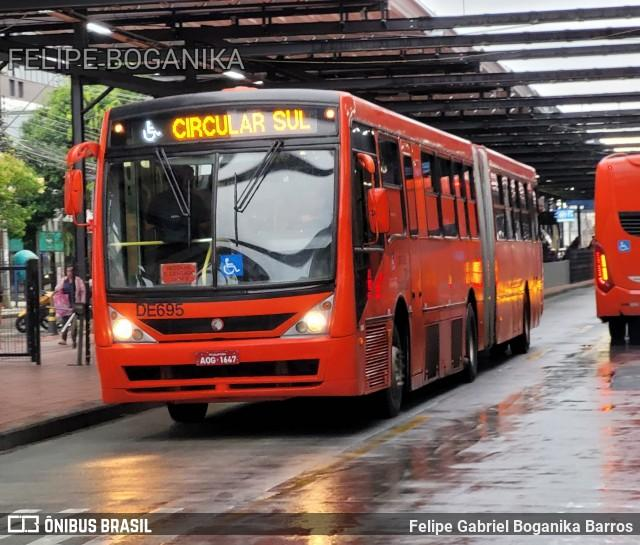CIRCULAR SUL: (164, 106, 313, 144)
